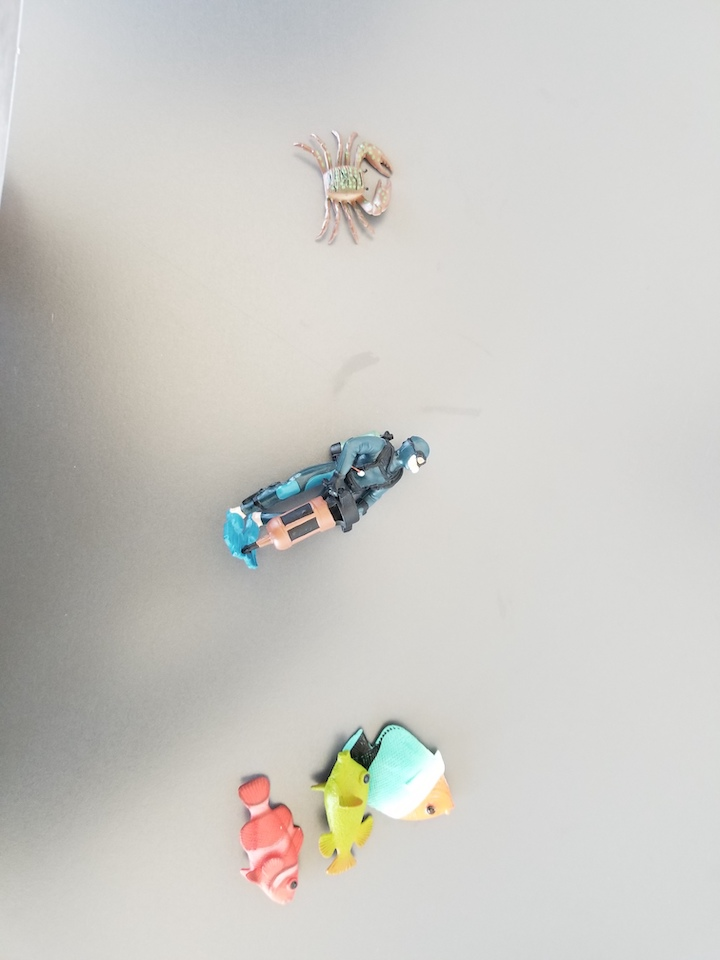crab: (293, 129, 396, 244)
diver: (220, 428, 433, 574)
fish: (333, 719, 457, 823), (230, 773, 307, 908), (316, 748, 376, 877)
